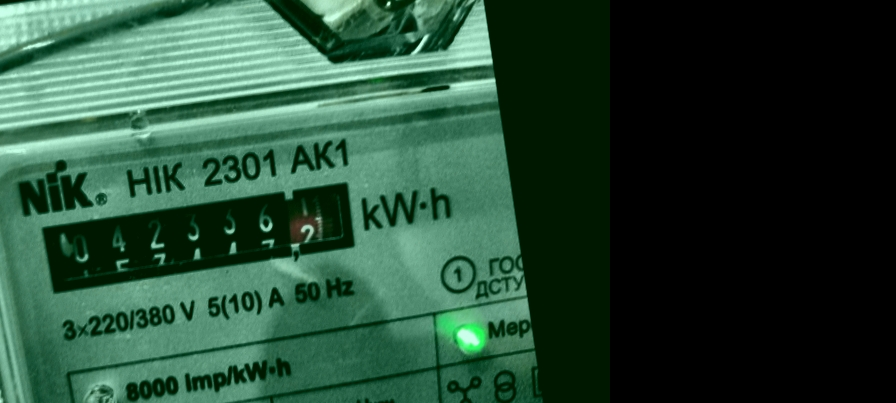0: (69, 230, 92, 265)
1: (295, 191, 311, 219)
2: (143, 214, 169, 251), (297, 222, 317, 245)
3: (180, 208, 202, 243), (218, 203, 240, 237)
4: (108, 220, 129, 254)
6: (253, 199, 278, 236)
screen: (28, 166, 372, 305)
